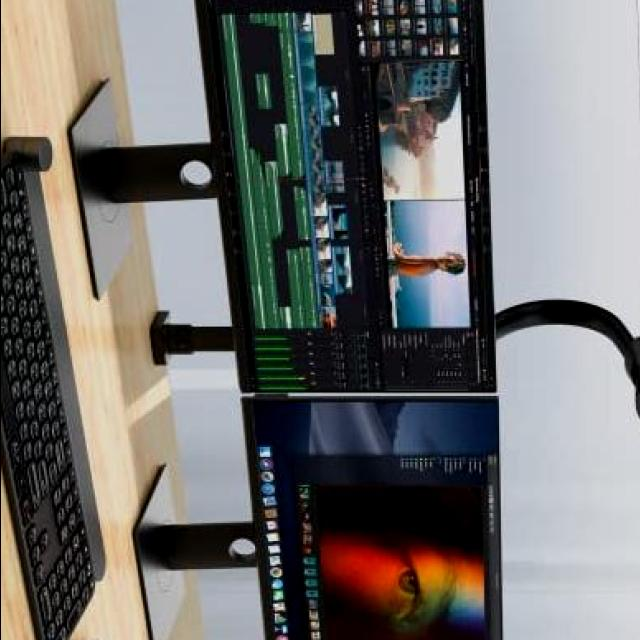keyboard: (0, 127, 112, 640)
